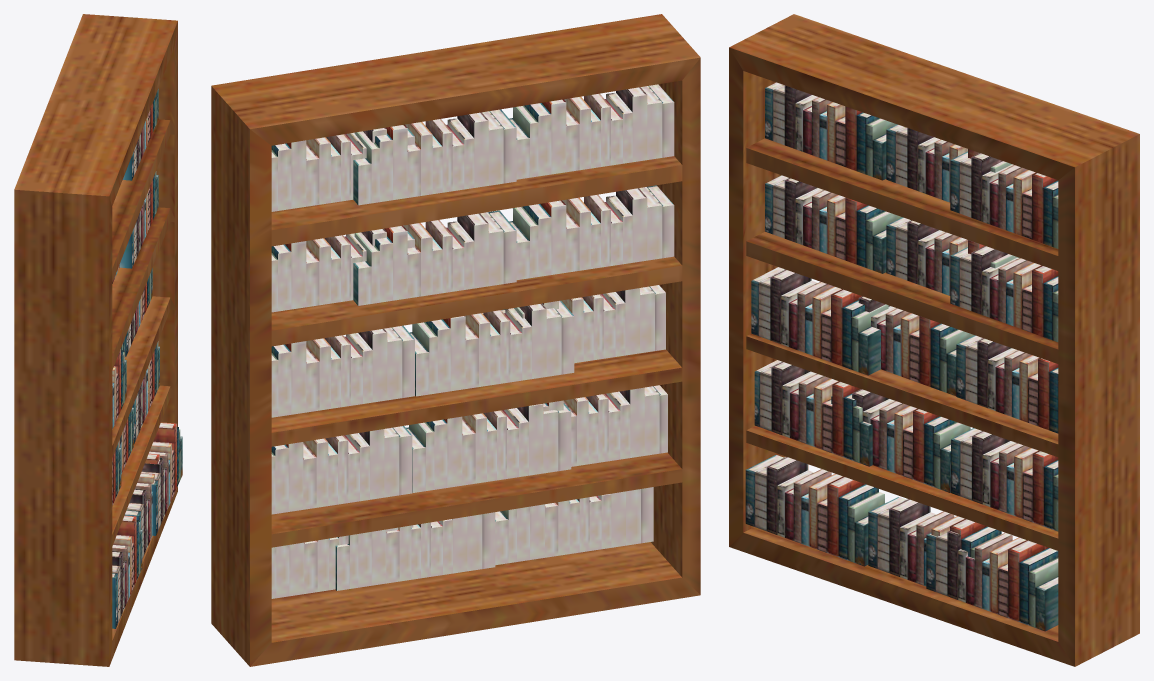
The model's file is bookcase.fbx.
The picture shows the model from 3 angles, left to right: view 1: azimuth 30°, elevation 25°; view 2: azimuth 150°, elevation 25°; view 3: azimuth 270°, elevation 25°; orthographic projection. The views are drawn at different scales.
Parts seen in each view (by area): view 1: book_case, books10, books, books1, books12, books2, books13, books11, books6, books3, books9; view 2: book_case, books15, books7, books5, books14, books4, books3, books6, books2, books1, books, books9 (+4 smaller); view 3: book_case, books, books10, books11, books9, books2, books5, books15, books12, books13, books6, books3 (+4 smaller).
Part boxes in pixels (<box>): book_case: <box>14,14,177,666</box>; books10: <box>141,422,182,535</box>; books: <box>112,515,142,628</box>; books1: <box>124,453,161,558</box>; books12: <box>119,171,158,268</box>; books2: <box>132,341,159,443</box>; books13: <box>122,88,158,180</box>; books11: <box>112,349,126,429</box>; books6: <box>125,268,152,356</box>; books3: <box>119,407,133,474</box>; books9: <box>112,442,121,505</box>; book_case: <box>211,14,700,666</box>; books15: <box>509,84,674,179</box>; books7: <box>409,300,574,396</box>; books5: <box>509,185,674,279</box>; books14: <box>353,109,516,205</box>; books4: <box>353,210,516,305</box>; books3: <box>406,403,571,492</box>; books6: <box>271,325,414,417</box>; books2: <box>271,426,412,514</box>; books1: <box>335,512,495,590</box>; books: <box>495,487,653,565</box>; books9: <box>543,385,667,466</box>; book_case: <box>729,14,1139,666</box>; books: <box>745,455,884,566</box>; books10: <box>926,531,1058,631</box>; books11: <box>751,267,888,375</box>; books9: <box>754,360,872,466</box>; books2: <box>951,428,1058,531</box>; books5: <box>765,175,901,273</box>; books15: <box>765,82,896,180</box>; books12: <box>950,246,1058,342</box>; books13: <box>950,151,1058,248</box>; books6: <box>956,335,1058,433</box>; books3: <box>831,389,970,492</box>.
Bounding box in the file's own units: 173 × 263 × 196.
